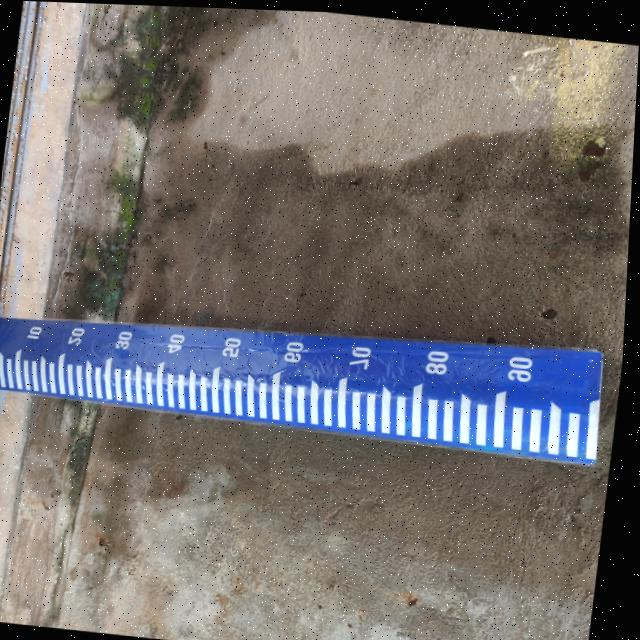water-meter: (0, 264, 621, 480)
